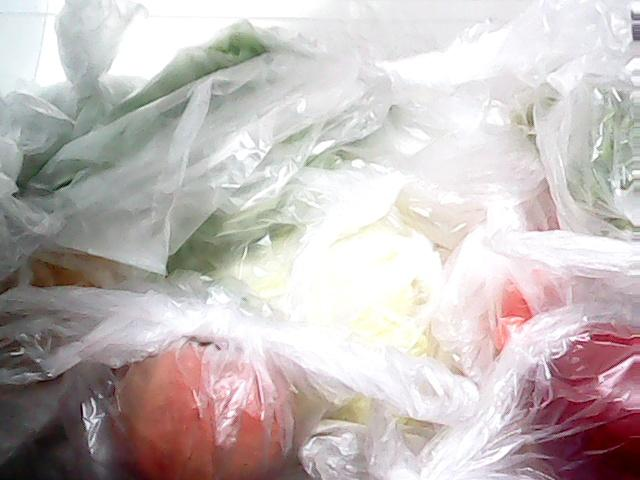apple: (496, 304, 640, 480)
cabbage: (554, 60, 640, 236)
carrot: (484, 216, 588, 360)
napa cabbage: (131, 177, 481, 447)
peach: (106, 332, 296, 480)
pepper: (17, 26, 280, 190)
potato: (0, 232, 130, 376)
